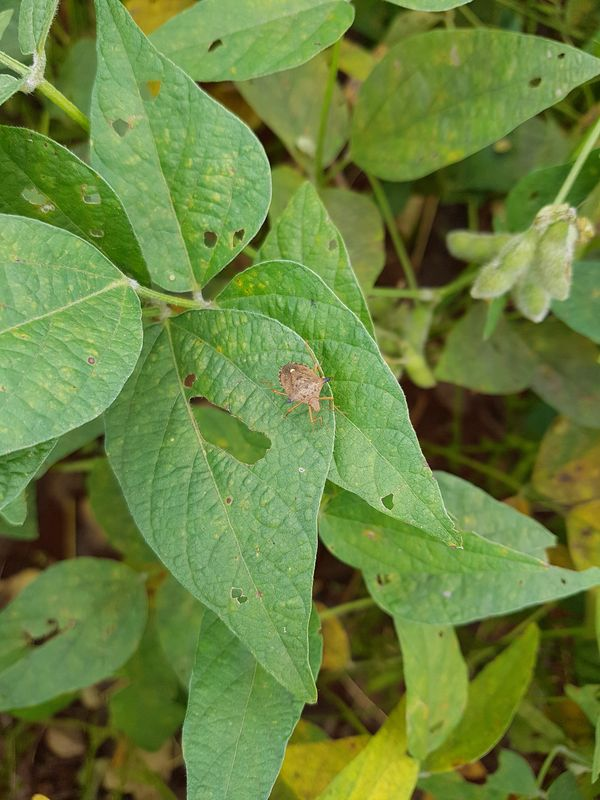Euschistus_heros_adulto: (254, 339, 348, 433)
